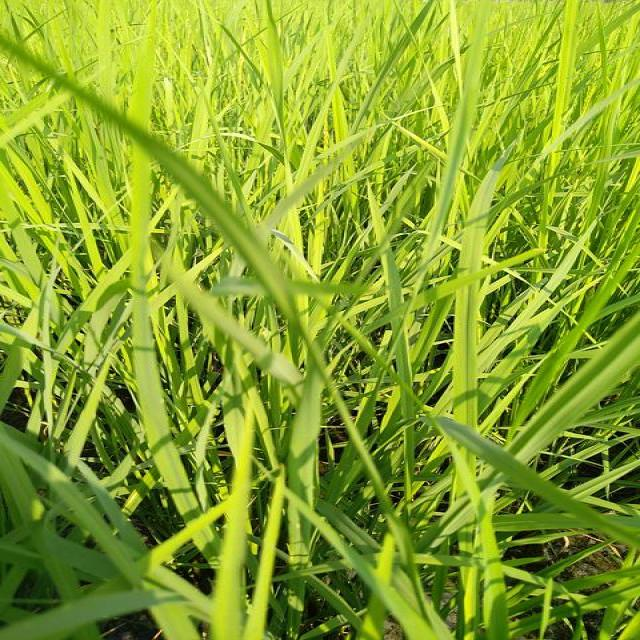Rice: (350, 218, 600, 517), (416, 311, 640, 551), (456, 38, 510, 634), (424, 417, 640, 549), (132, 142, 201, 520), (0, 429, 101, 637), (286, 308, 344, 636), (25, 250, 130, 428), (367, 187, 415, 488), (204, 390, 260, 640), (0, 591, 182, 640), (242, 476, 289, 640), (353, 537, 399, 640)
